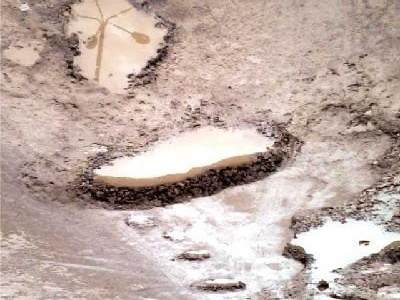pothole: (18, 108, 297, 213), (278, 138, 400, 299), (59, 0, 178, 100), (338, 106, 400, 137), (187, 274, 244, 295), (0, 44, 43, 69), (122, 213, 159, 231), (161, 224, 190, 244), (174, 247, 211, 262)
